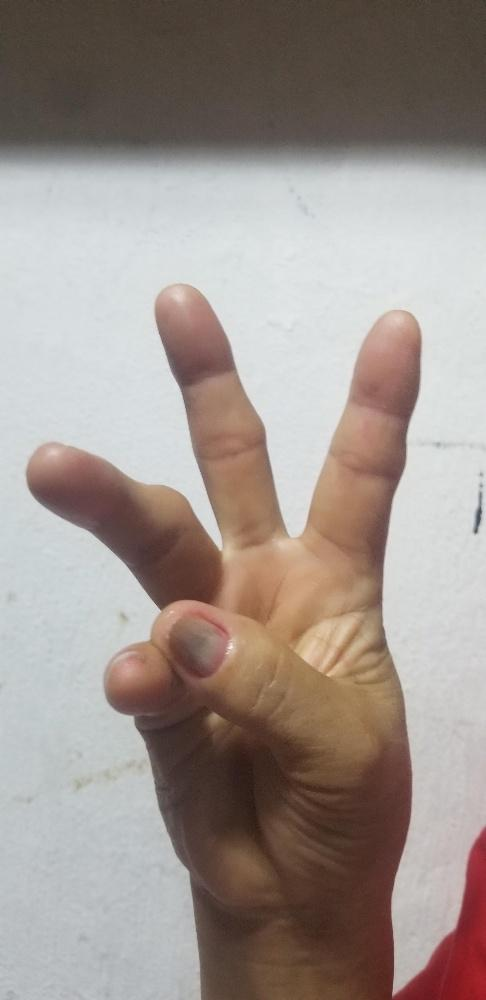w: (25, 280, 421, 826)
